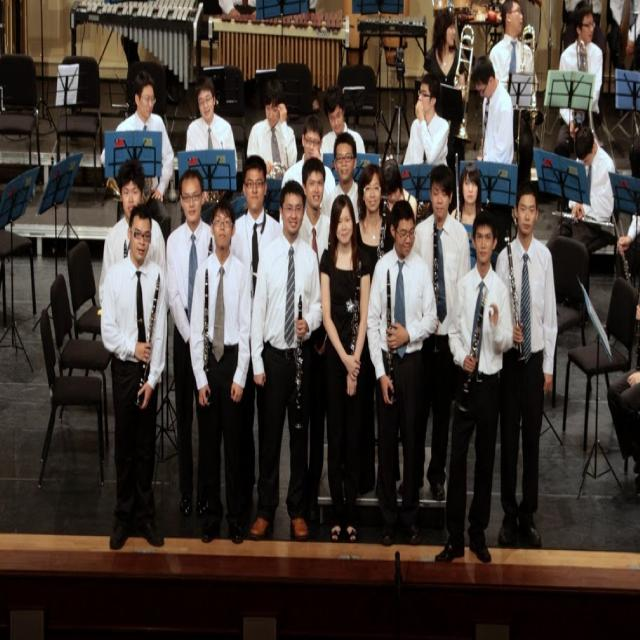clarinet: (454, 288, 488, 418), (132, 270, 162, 416), (502, 232, 526, 359), (291, 294, 306, 438), (202, 232, 215, 375), (346, 272, 359, 396), (372, 202, 391, 264), (385, 265, 393, 401)
